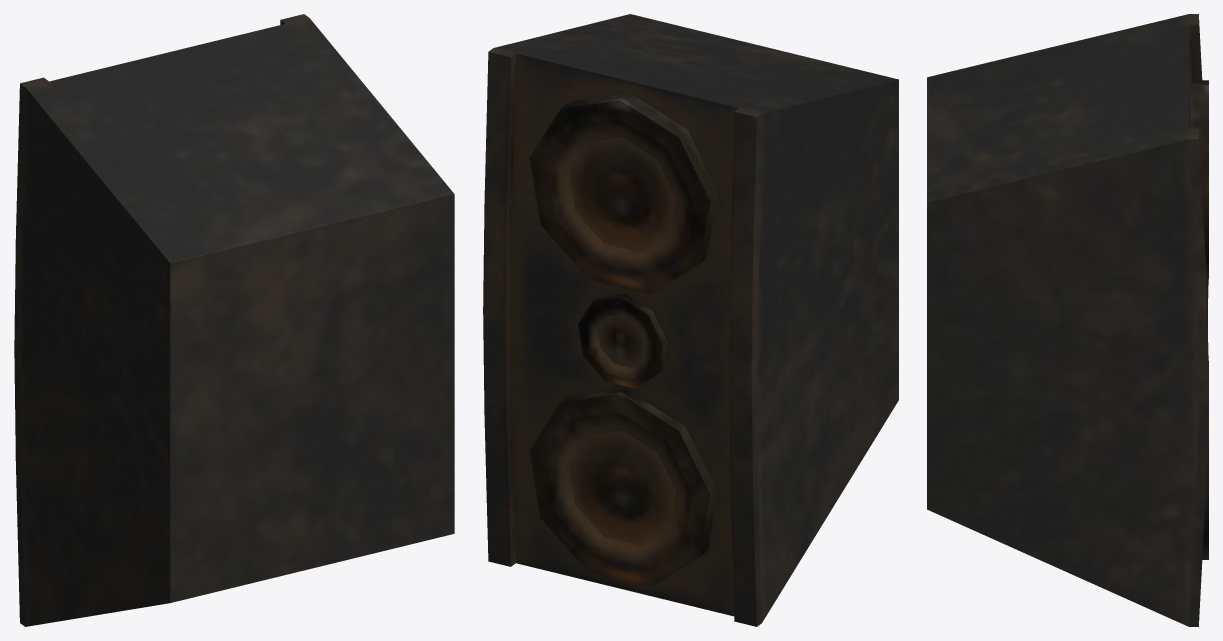
The model's file is SpeakerBig.FBX.
3 views of the same model, side by side, from view 1: azimuth 30°, elevation 25°; view 2: azimuth 150°, elevation 25°; view 3: azimuth 270°, elevation 25° (orthographic). The views are drawn at different scales.
Visible parts, largest first — view 1: SpeakerBig; view 2: SpeakerBig; view 3: SpeakerBig.
Part boxes in pixels (bbox=[...]): SpeakerBig: bbox=[14, 14, 454, 626]; SpeakerBig: bbox=[483, 14, 898, 626]; SpeakerBig: bbox=[927, 14, 1208, 626].
Bounding box in the file's own units: 32.65 × 59.24 × 31.04.
